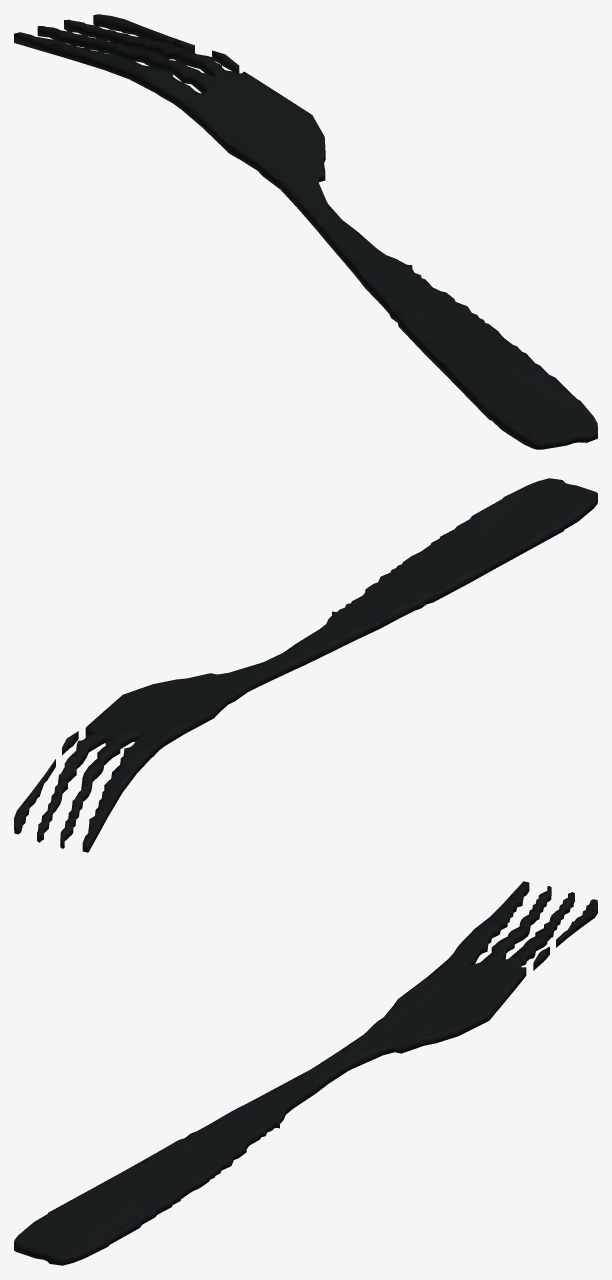
3 renders of one model, top to bottom at view 1: azimuth 30°, elevation 25°; view 2: azimuth 150°, elevation 25°; view 3: azimuth 330°, elevation 25°, orthographic. The views are drawn at different scales.
Parts seen in each view (by area): view 1: body; view 2: body; view 3: body.
Part boxes in pixels (x1,y1,x2,y2): body: (14,14,597,449); body: (14,478,597,852); body: (14,881,597,1265).
Size of the model in its own units: 0.0371 by 0.00773 by 0.227.
1 material, 1 textured.
